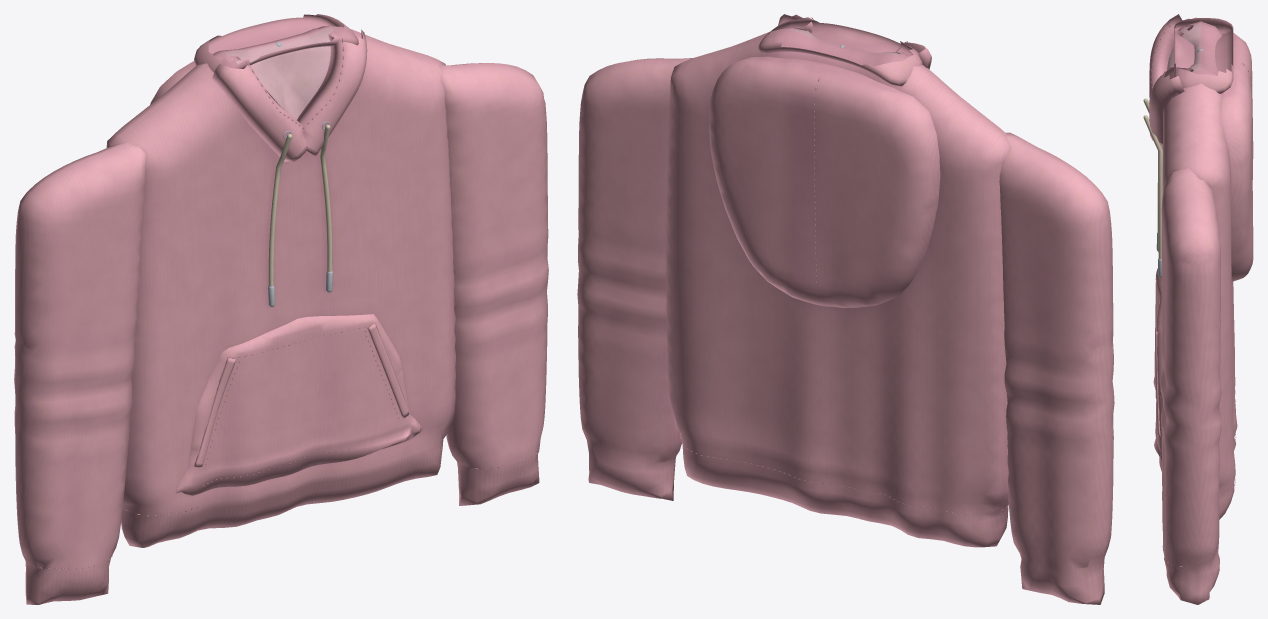
The model's file is grab3d-hoodie-clean-prototype.glb.
3 renders of one model, left to right at view 1: azimuth 30°, elevation 25°; view 2: azimuth 150°, elevation 25°; view 3: azimuth 270°, elevation 25°, orthographic. The views are drawn at different scales.
Parts seen in each view (by area): view 1: hoodie_body; view 2: hoodie_body; view 3: hoodie_body.
Boxes of the visible parts, <box> form: hoodie_body: <box>14,14,548,604</box>; hoodie_body: <box>577,14,1114,604</box>; hoodie_body: <box>1143,14,1253,604</box>.
Bounding box in the file's own units: 0.8278 × 0.7602 × 0.167.
Materials: 1 (1 with a texture image).
